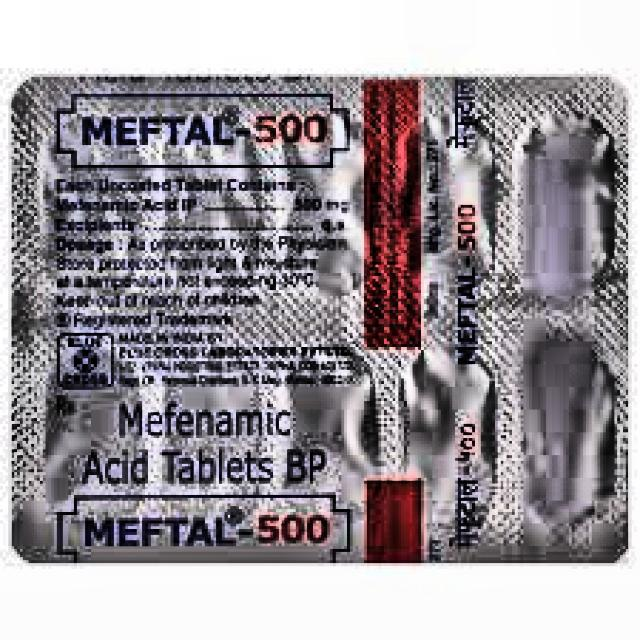Meftal: (58, 93, 345, 175)
